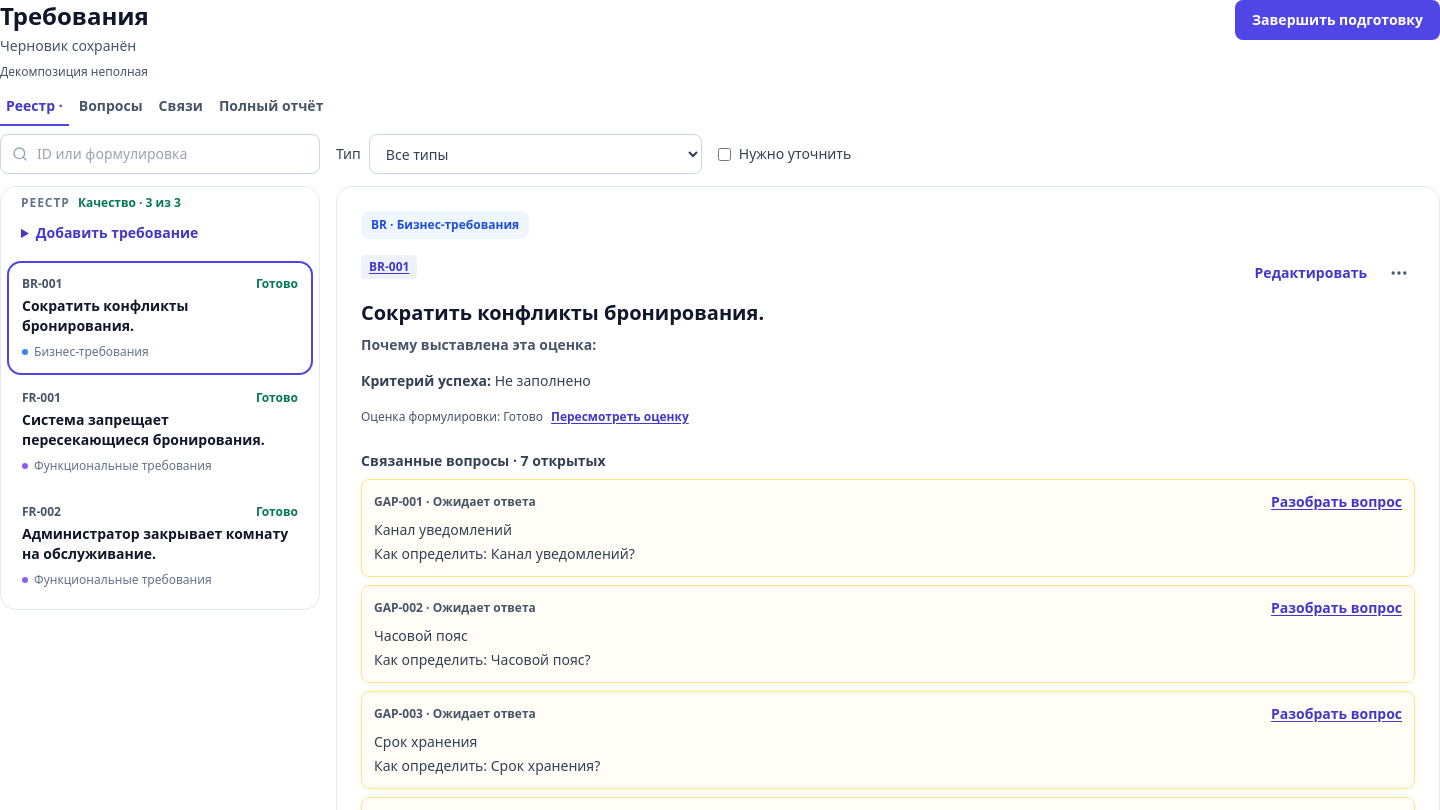
a fully checked gap still requires an answer before closure
Click the button "Разобрать вопрос" in the row of "GAP-001" at {"x": 1336, "y": 502}, box [1271,492,1402,512]
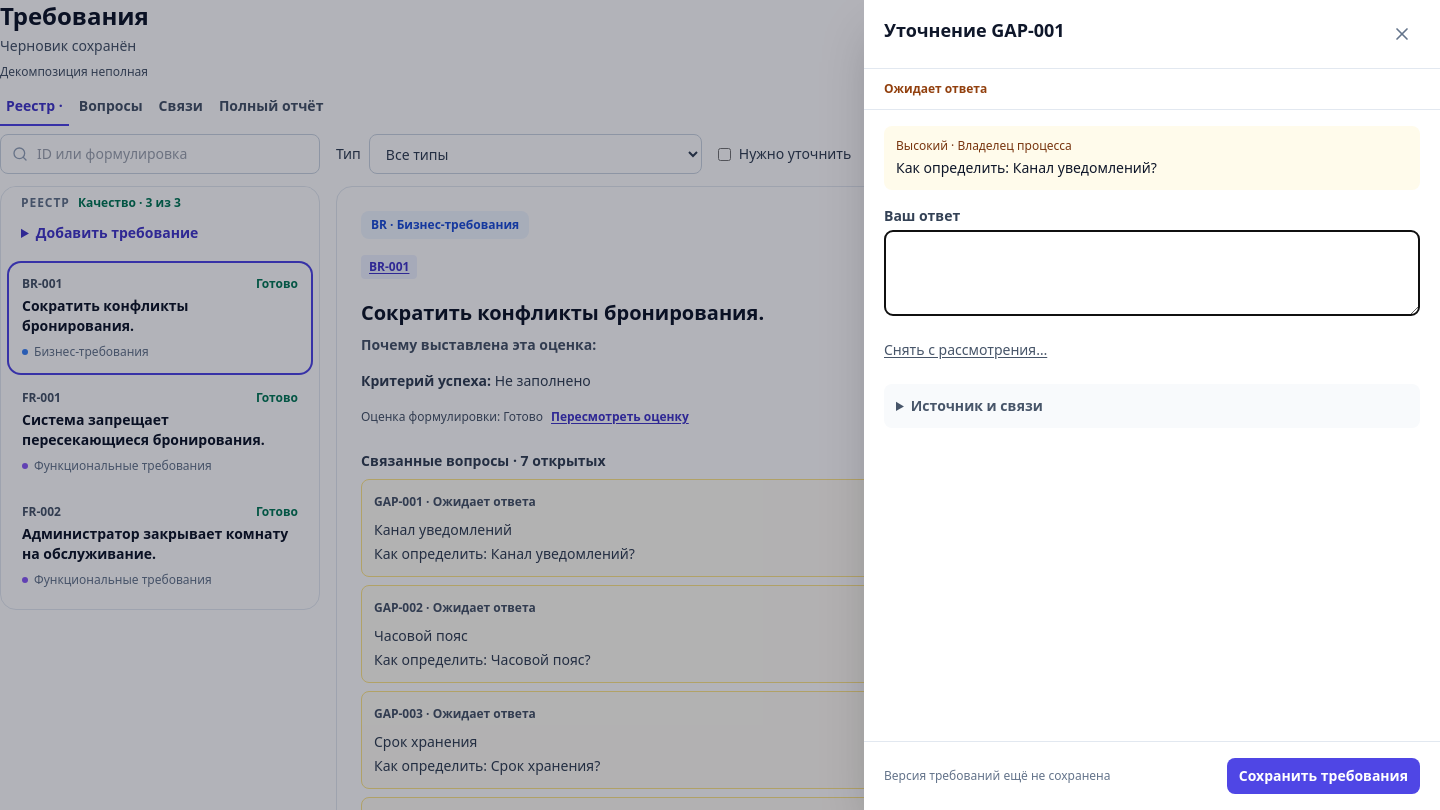
Expected: the text box named "Ответ на GAP-001" is shown, [884,230,1420,316]
